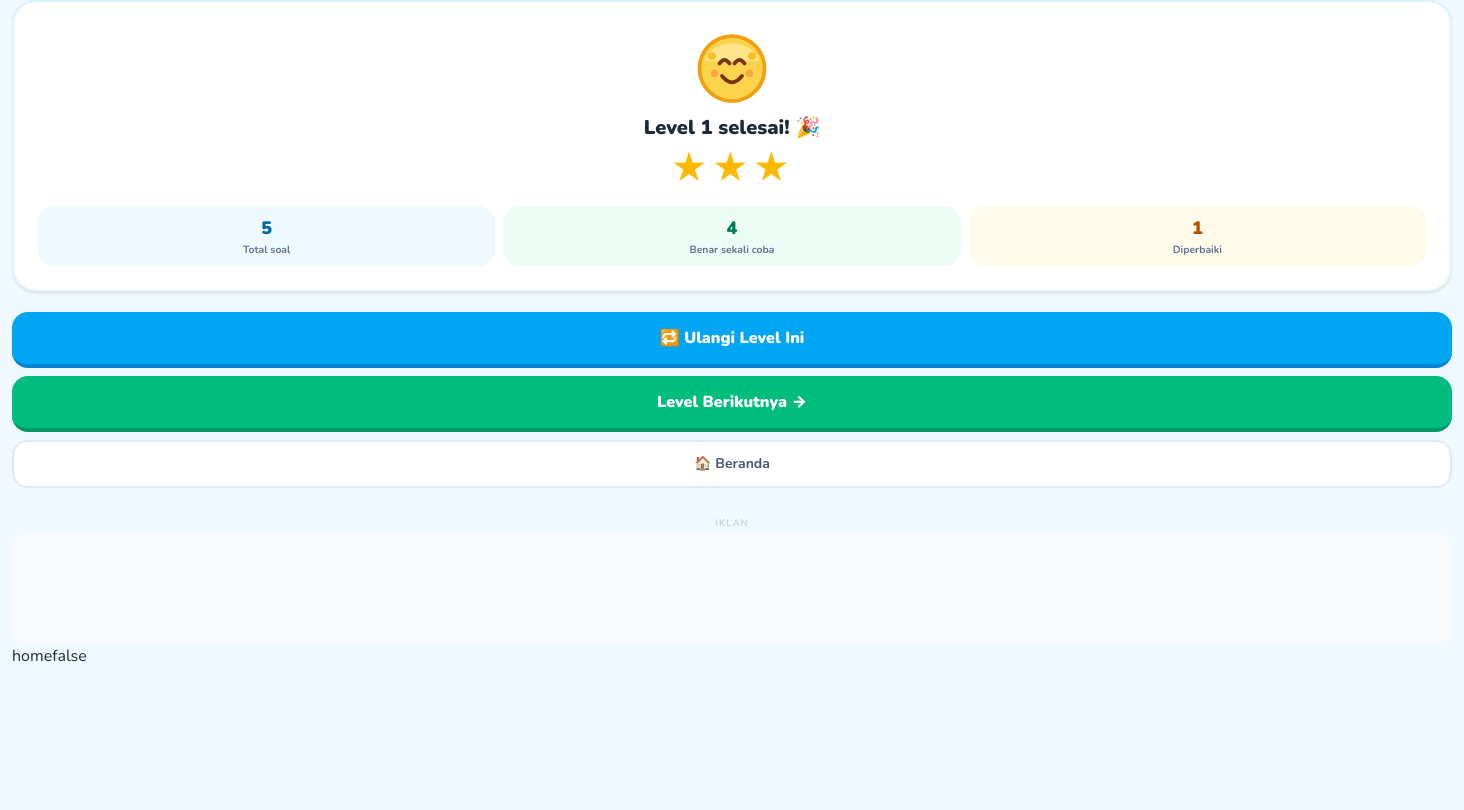
Test case: ResultScreen › retry story mengarah ke story-learn, next story bercabang benar
The width and height of the screenshot is (1464, 810).
Click the button "🔁 Ulangi Level Ini" at (732, 340), box [12,312,1452,368]
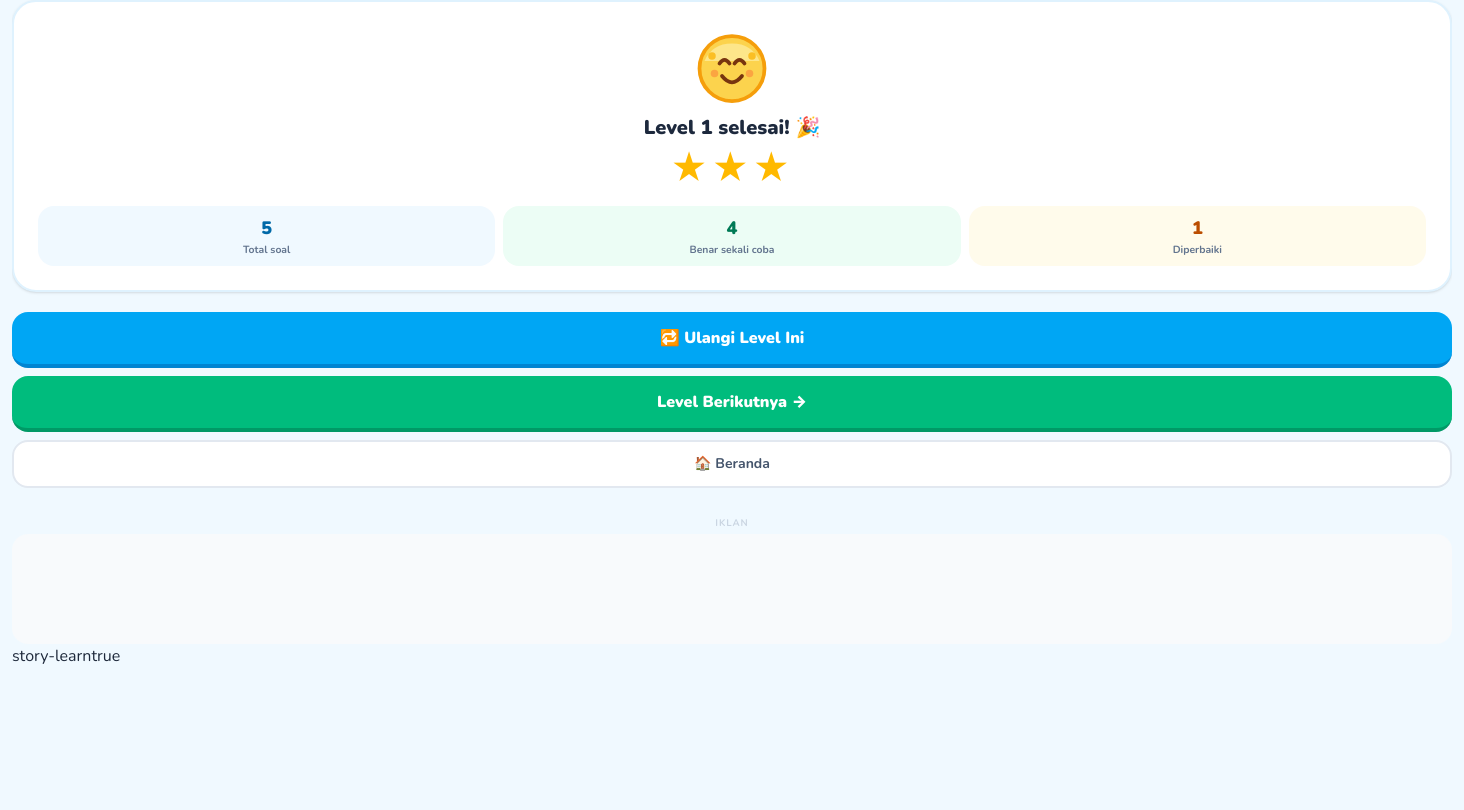
expect the text with test id "probe-screen" reads "story-learn": met, box [12,645,91,667]
